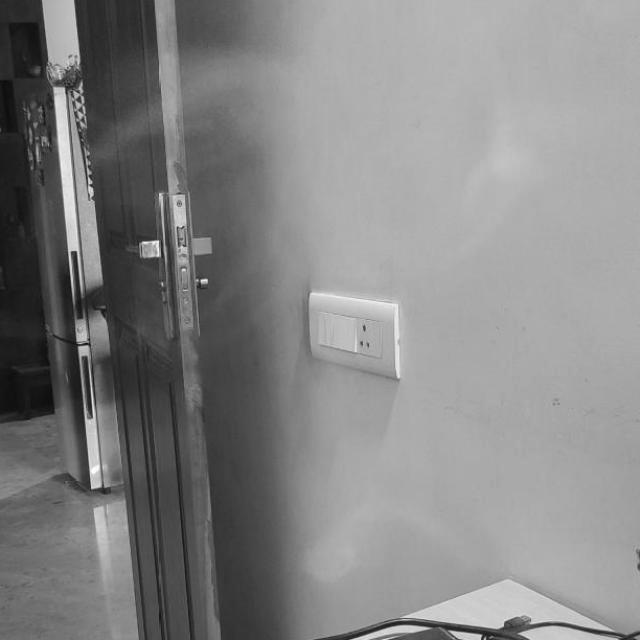fire: (81, 49, 332, 172), (300, 498, 472, 586), (458, 113, 529, 230)
